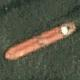ship: (0, 34, 40, 42)
